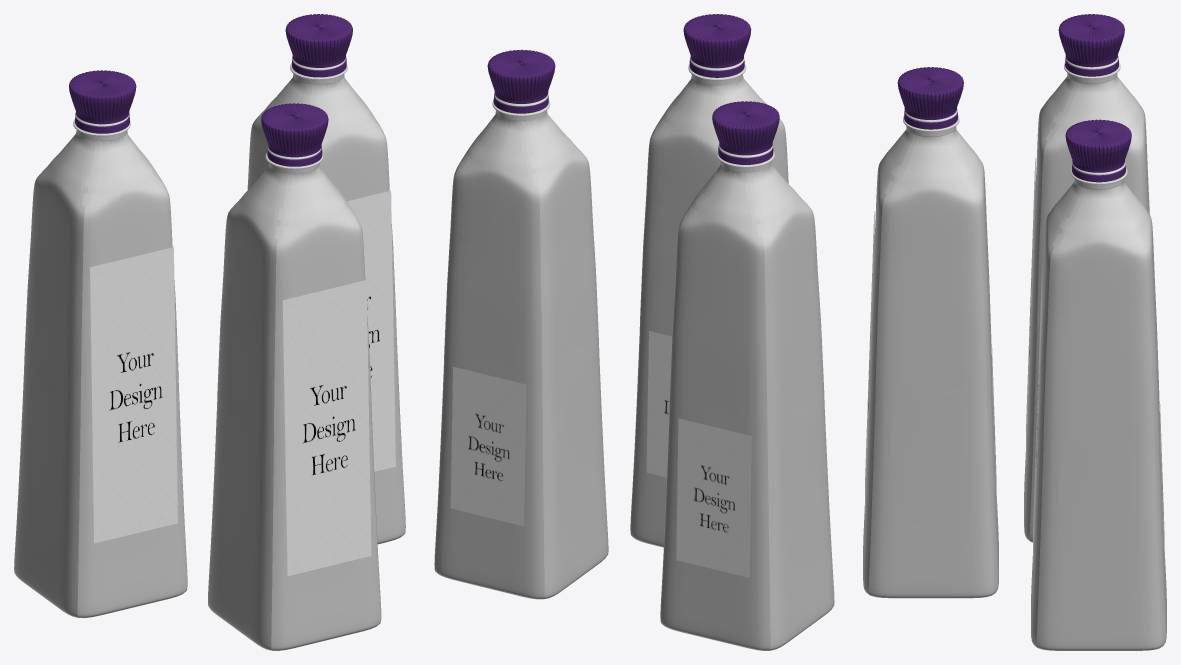
Rendered from Plastic Bottle A-6.glb.
The picture shows the model from 3 angles, left to right: view 1: azimuth 30°, elevation 25°; view 2: azimuth 150°, elevation 25°; view 3: azimuth 270°, elevation 25°; orthographic projection. The views are drawn at different scales.
Parts seen in each view (by area): view 1: bottle001, bottle001.001, Plane.001, Plane.004, bottle001.002, Plane.007, Mesh_1.001, Mesh_1.002, Mesh_1; view 2: bottle001, bottle001.002, bottle001.001, Plane.007, Plane.001, Plane.004, Mesh_1.001, Mesh_1.002, Mesh_1; view 3: bottle001.001, bottle001.002, bottle001, Mesh_1, Mesh_1.002, Mesh_1.001, Plane.007, Plane.004, Plane.001.
Boxes of the visible parts, x1=… form: bottle001: x1=14, y1=112, x2=187, y2=618; bottle001.001: x1=208, y1=145, x2=381, y2=650; Plane.001: x1=90, y1=247, x2=177, y2=543; Plane.004: x1=282, y1=280, x2=371, y2=576; bottle001.002: x1=247, y1=56, x2=405, y2=544; Plane.007: x1=347, y1=190, x2=395, y2=471; Mesh_1.001: x1=261, y1=103, x2=328, y2=157; Mesh_1.002: x1=285, y1=14, x2=352, y2=67; Mesh_1: x1=69, y1=70, x2=136, y2=124; bottle001: x1=660, y1=145, x2=834, y2=650; bottle001.002: x1=434, y1=93, x2=608, y2=599; bottle001.001: x1=630, y1=58, x2=788, y2=547; Plane.007: x1=450, y1=366, x2=526, y2=526; Plane.001: x1=676, y1=418, x2=751, y2=577; Plane.004: x1=646, y1=331, x2=671, y2=477; Mesh_1.001: x1=683, y1=14, x2=751, y2=68; Mesh_1.002: x1=487, y1=49, x2=555, y2=103; Mesh_1: x1=712, y1=101, x2=779, y2=155; bottle001.001: x1=863, y1=108, x2=998, y2=598; bottle001.002: x1=1031, y1=161, x2=1166, y2=650; bottle001: x1=1024, y1=55, x2=1149, y2=542; Mesh_1: x1=1058, y1=14, x2=1124, y2=67; Mesh_1.002: x1=1065, y1=119, x2=1131, y2=172; Mesh_1.001: x1=897, y1=67, x2=963, y2=119; Plane.007: x1=1033, y1=264, x2=1164, y2=566; Plane.004: x1=865, y1=215, x2=996, y2=517; Plane.001: x1=1026, y1=161, x2=1035, y2=463.
Bounding box in the file's own units: 2.25 × 3.15 × 1.76.
4 materials, 1 textured.
